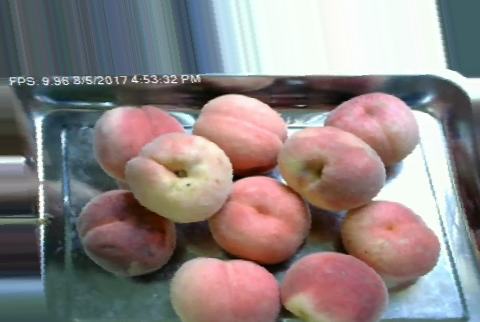Peach: (125, 131, 233, 221), (277, 125, 385, 214), (78, 189, 176, 277), (339, 201, 444, 281), (209, 177, 306, 262), (189, 92, 288, 174), (276, 248, 385, 322), (322, 91, 421, 170), (168, 257, 281, 320), (95, 106, 185, 181)
